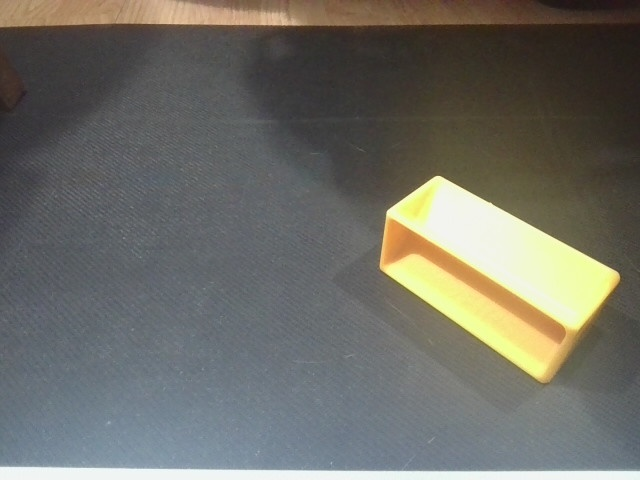YellowSample: (377, 173, 623, 386)
